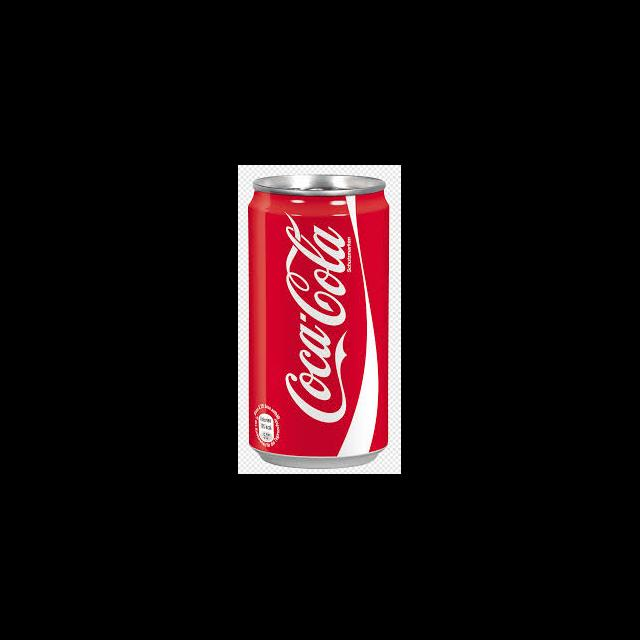metal: (248, 175, 388, 466)
